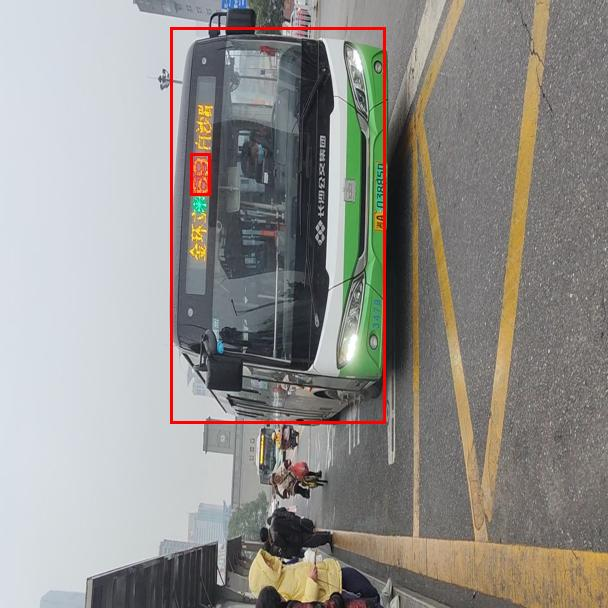bus: (170, 27, 385, 423)
screen: (190, 153, 210, 195)
